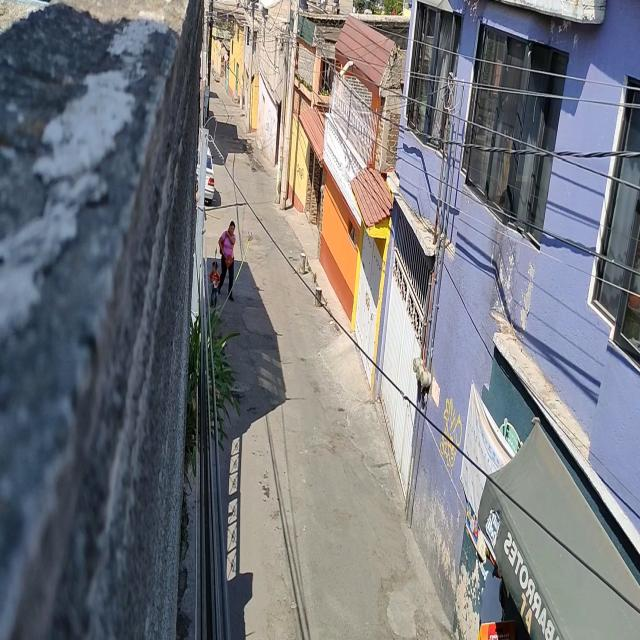adult: (219, 221, 235, 304), (209, 261, 221, 310)
